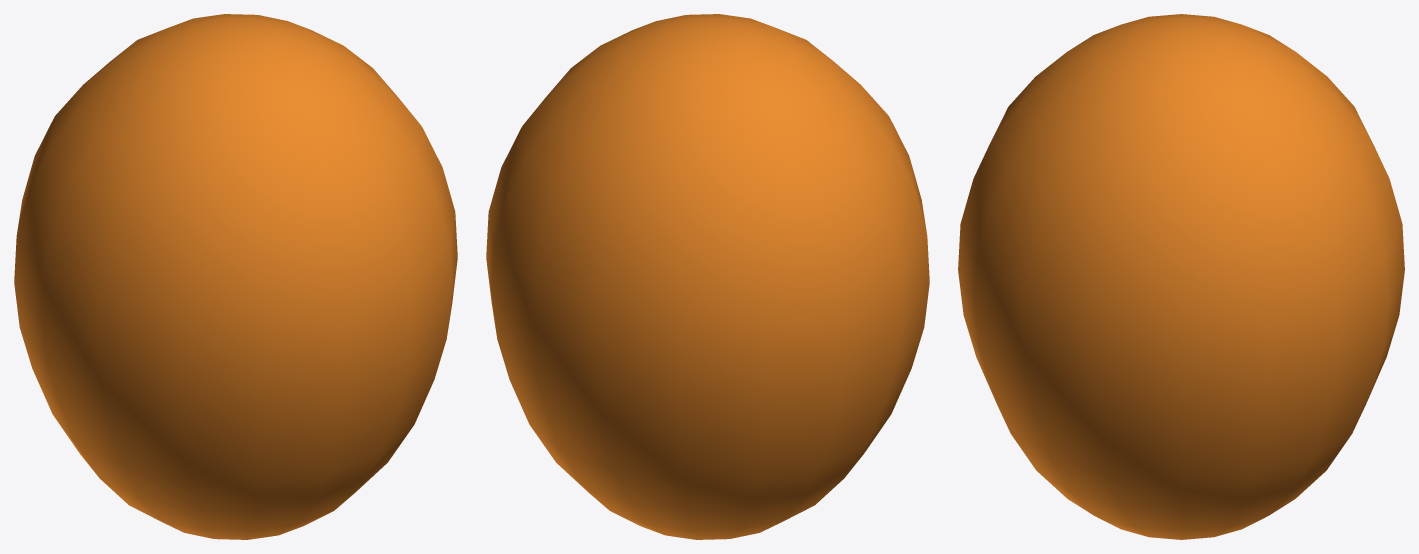
File: balloon (1).fbx
The picture shows the model from 3 angles, left to right: view 1: azimuth 30°, elevation 25°; view 2: azimuth 150°, elevation 25°; view 3: azimuth 270°, elevation 25°; orthographic projection.
Visible parts, largest first — view 1: balloon; view 2: balloon; view 3: balloon.
Boxes of the visible parts, x1,y1,x2,y2 form: balloon: [14, 14, 457, 539]; balloon: [486, 14, 929, 539]; balloon: [958, 14, 1404, 539].
Bounding box in the file's own units: 0.5875 × 0.7125 × 0.5875.
